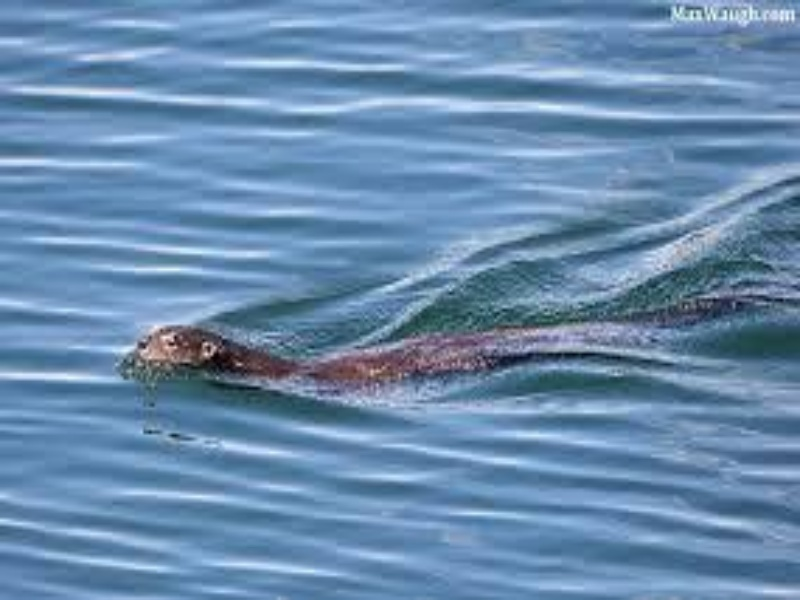minkish: (135, 323, 608, 410)
